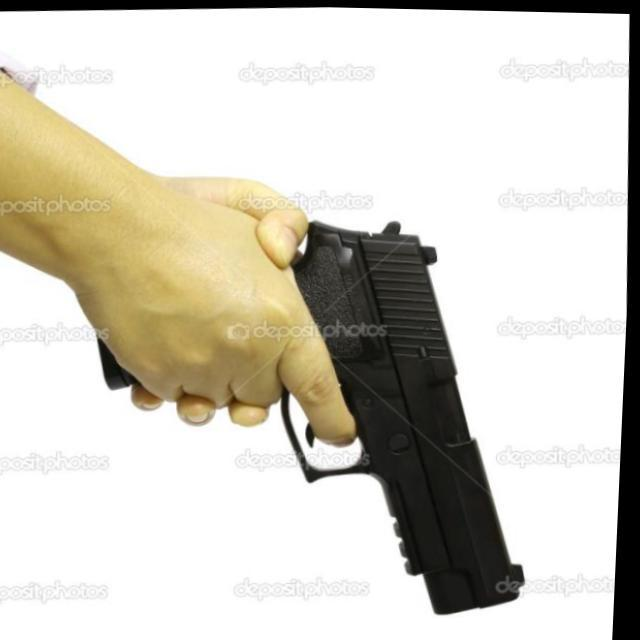weapon: (265, 208, 546, 623)
